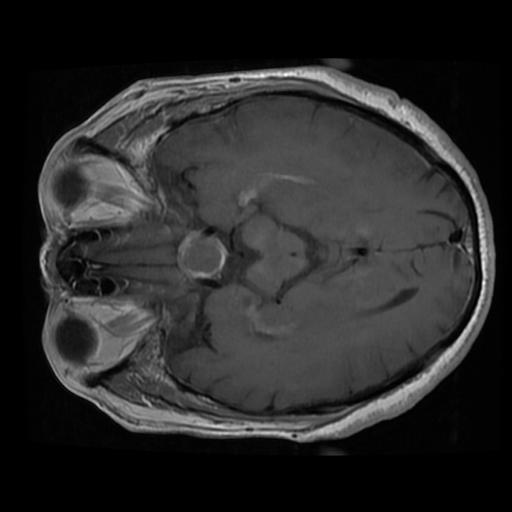pituitary tumour: (175, 225, 227, 280)
